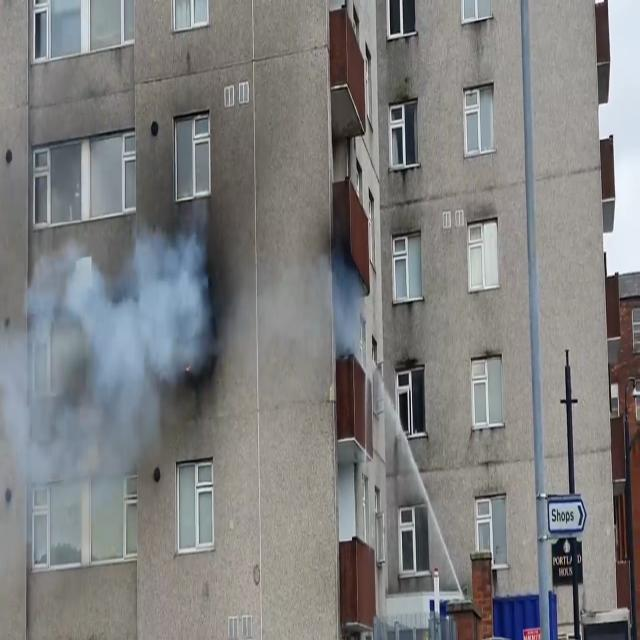Smoke: (0, 216, 213, 548), (322, 252, 368, 358)
